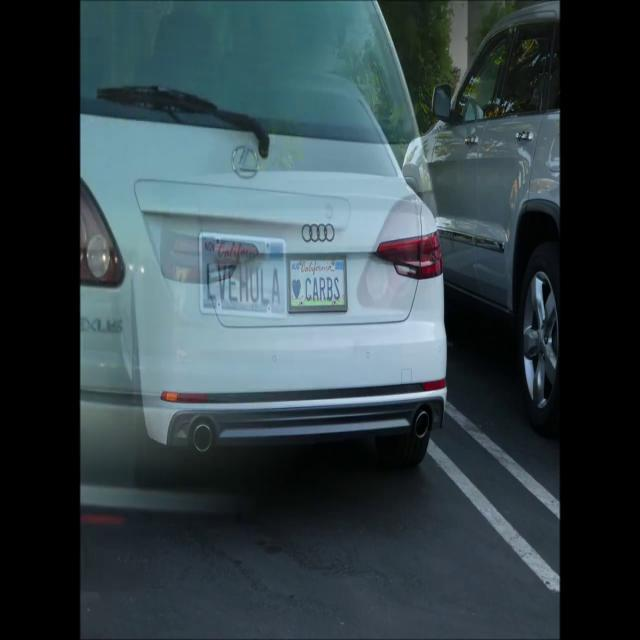licenseplate: (288, 255, 346, 309)
